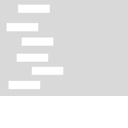square: (4, 19, 40, 33), (15, 1, 52, 14), (6, 79, 42, 91), (19, 35, 54, 47), (14, 51, 49, 63), (30, 65, 64, 76)
